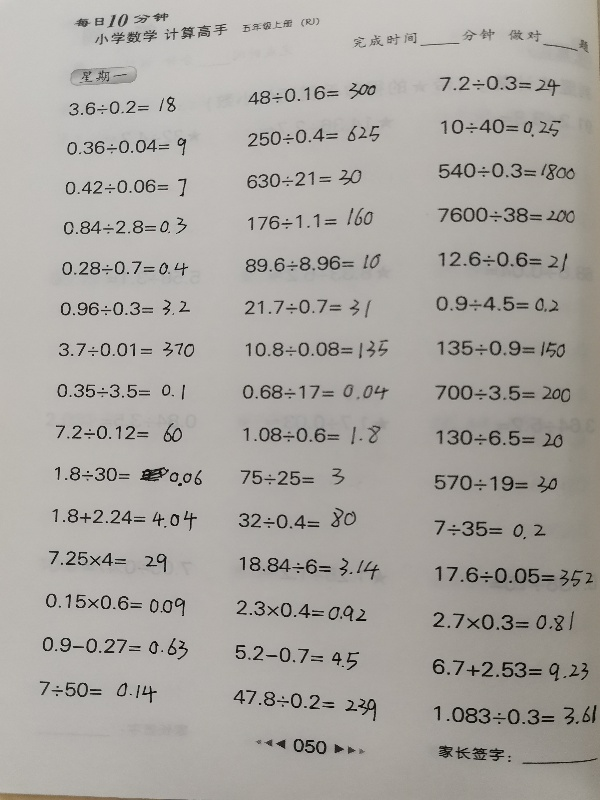equation: (429, 701, 600, 728), (229, 689, 380, 719), (38, 633, 191, 662), (428, 656, 592, 683), (431, 563, 600, 588), (238, 377, 394, 404), (30, 675, 164, 706), (49, 506, 200, 533), (51, 461, 205, 487), (430, 608, 578, 635), (41, 544, 174, 574), (236, 552, 382, 579), (41, 591, 188, 617), (240, 422, 384, 448), (242, 337, 391, 362), (434, 247, 570, 274), (434, 158, 579, 183), (243, 205, 376, 232), (235, 504, 359, 532), (52, 422, 190, 447), (244, 123, 382, 148), (55, 337, 198, 361), (231, 644, 362, 670), (434, 204, 580, 227), (432, 425, 566, 450), (430, 381, 574, 404), (241, 252, 384, 275), (233, 598, 370, 622), (56, 296, 193, 320), (60, 214, 191, 239), (244, 81, 380, 105), (430, 471, 560, 496), (434, 336, 568, 360), (62, 175, 190, 200), (435, 72, 563, 97), (241, 295, 374, 319), (437, 115, 564, 140), (64, 134, 190, 159), (59, 256, 191, 279), (53, 380, 188, 402), (432, 292, 561, 315), (243, 167, 365, 191), (236, 466, 357, 490), (431, 517, 549, 541), (65, 94, 179, 118)
